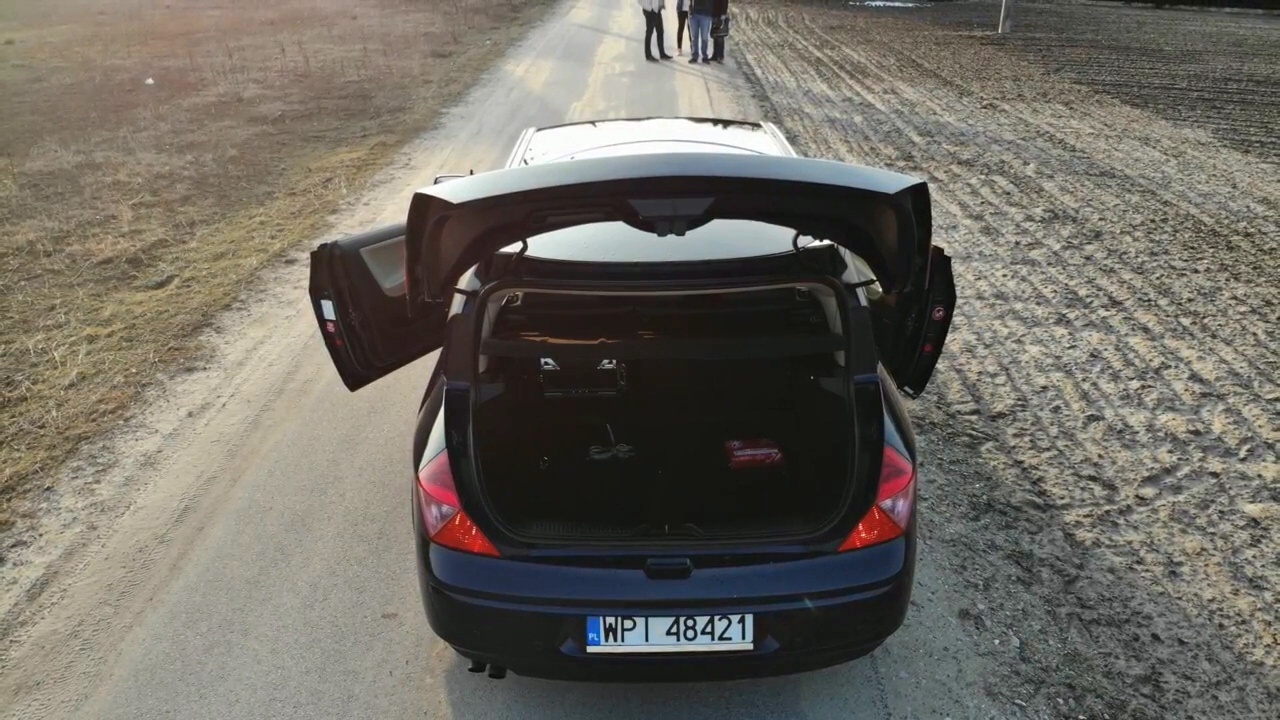araba: (408, 112, 921, 683)
insan: (686, 1, 721, 68), (637, 1, 673, 66), (670, 1, 696, 60)
